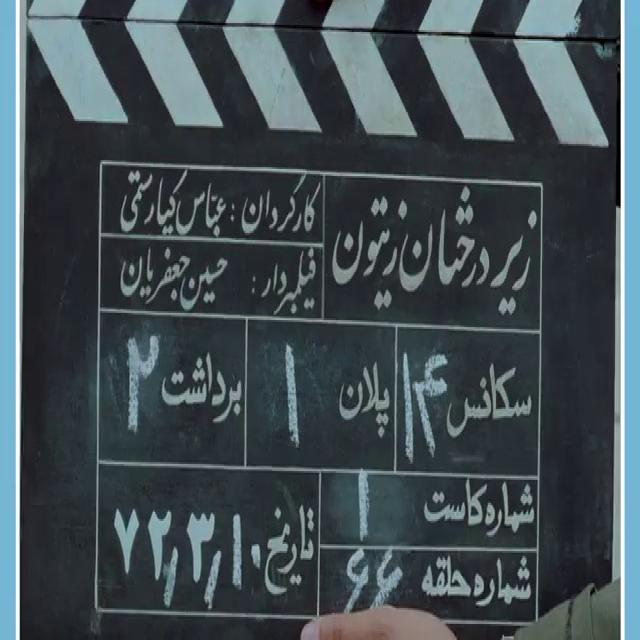Clapperboard: (21, 0, 622, 640)
